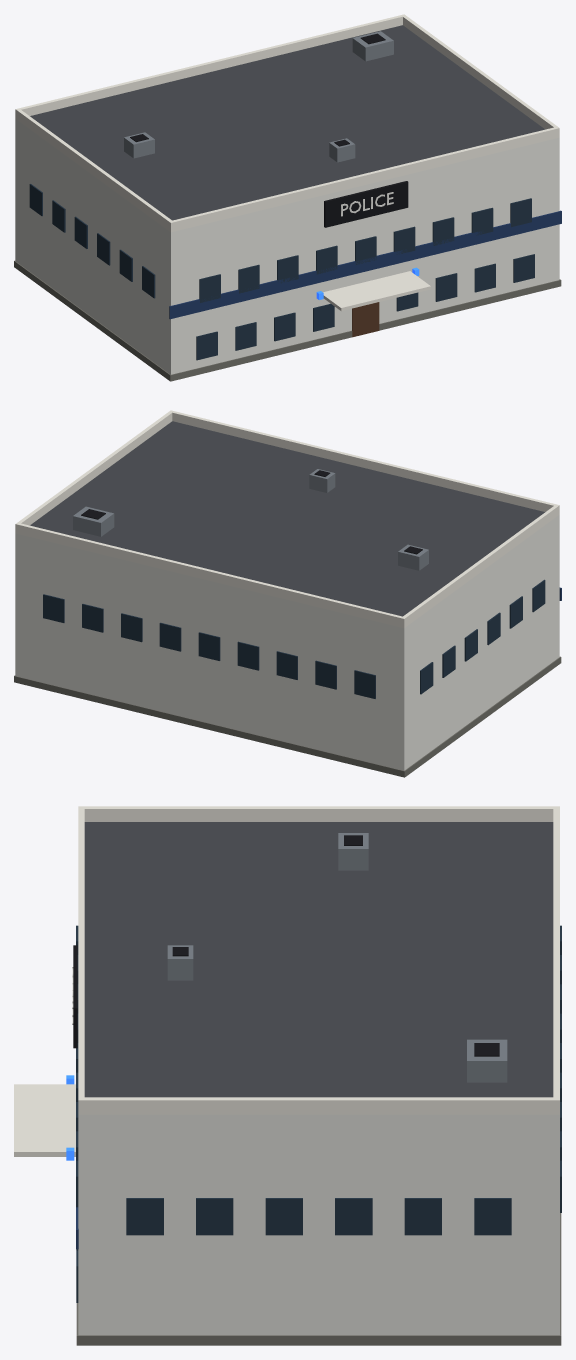
File: police_station.glb
3 views of the same model, one above another, from view 1: azimuth 30°, elevation 25°; view 2: azimuth 150°, elevation 25°; view 3: azimuth 270°, elevation 25° (orthographic). The views are drawn at different scales.
Parts seen in each view (by area): view 1: police_station_Body, police_station_SignBoard; view 2: police_station_Body; view 3: police_station_Body.
Boxes of the visible parts, left/top/right/bottom form: police_station_Body: left=14, top=14, right=561, bottom=381; police_station_SignBoard: left=324, top=181, right=408, bottom=227; police_station_Body: left=14, top=410, right=561, bottom=777; police_station_Body: left=14, top=806, right=561, bottom=1345.
Bounding box in the file's own units: 26.2 × 10.49 × 20.48.
